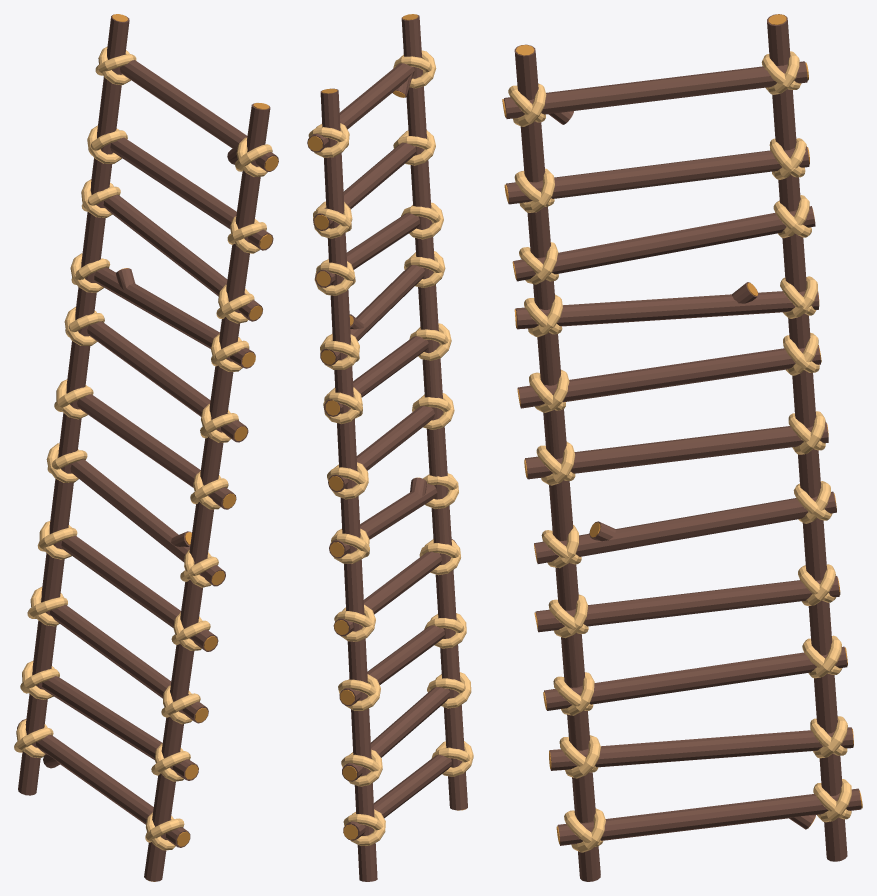
Rendered from lader.obj.
The picture shows the model from 3 angles, left to right: view 1: azimuth 30°, elevation 25°; view 2: azimuth 150°, elevation 25°; view 3: azimuth 270°, elevation 25°; orthographic projection. The views are drawn at different scales.
Visible parts, largest first — view 1: group735832526, group1147651778, group20529186, group940978571, group1146611456, group1825139340, group1011559146, group1526910916, group2060675427, group222756824, group477564132, group45701191 (+1 smaller); view 2: group735832526, group1147651778, group45701191, group222756824, group1519229772, group1146611456, group1526910916, group2060675427, group1011559146, group1825139340, group940978571, group20529186 (+42 smaller); view 3: group1147651778, group735832526, group1526910916, group940978571, group1146611456, group1825139340, group2060675427, group222756824, group20529186, group477564132, group45701191, group1011559146 (+1 smaller).
Boxes of the visible parts, x1=… form: group735832526: x1=144, y1=103, x2=270, y2=881; group1147651778: x1=18, y1=14, x2=129, y2=795; group20529186: x1=103, y1=195, x2=262, y2=321; group940978571: x1=87, y1=321, x2=248, y2=442; group1146611456: x1=77, y1=394, x2=236, y2=509; group1825139340: x1=110, y1=137, x2=273, y2=250; group1011559146: x1=49, y1=605, x2=208, y2=723; group1526910916: x1=120, y1=54, x2=278, y2=171; group2060675427: x1=61, y1=535, x2=218, y2=651; group222756824: x1=17, y1=719, x2=190, y2=847; group477564132: x1=70, y1=459, x2=225, y2=586; group45701191: x1=42, y1=676, x2=198, y2=780; group735832526: x1=401, y1=15, x2=467, y2=810; group1147651778: x1=320, y1=88, x2=377, y2=881; group45701191: x1=342, y1=687, x2=449, y2=781; group222756824: x1=343, y1=755, x2=451, y2=840; group1519229772: x1=320, y1=265, x2=424, y2=365; group1146611456: x1=328, y1=406, x2=434, y2=492; group1526910916: x1=307, y1=63, x2=414, y2=152; group2060675427: x1=333, y1=539, x2=456, y2=636; group1011559146: x1=339, y1=625, x2=444, y2=706; group1825139340: x1=313, y1=142, x2=416, y2=230; group940978571: x1=324, y1=336, x2=428, y2=416; group20529186: x1=315, y1=213, x2=419, y2=287; group1147651778: x1=767, y1=14, x2=847, y2=861; group735832526: x1=514, y1=44, x2=600, y2=881; group1526910916: x1=504, y1=61, x2=807, y2=118; group940978571: x1=517, y1=345, x2=820, y2=408; group1146611456: x1=525, y1=422, x2=828, y2=479; group1825139340: x1=506, y1=146, x2=809, y2=204; group2060675427: x1=535, y1=576, x2=839, y2=632; group222756824: x1=557, y1=788, x2=861, y2=845; group20529186: x1=513, y1=206, x2=815, y2=281; group477564132: x1=534, y1=491, x2=836, y2=563; group45701191: x1=549, y1=727, x2=853, y2=770; group1011559146: x1=544, y1=646, x2=847, y2=710.
Size of the model in its own units: 0.5901 by 3.66 by 1.35.
